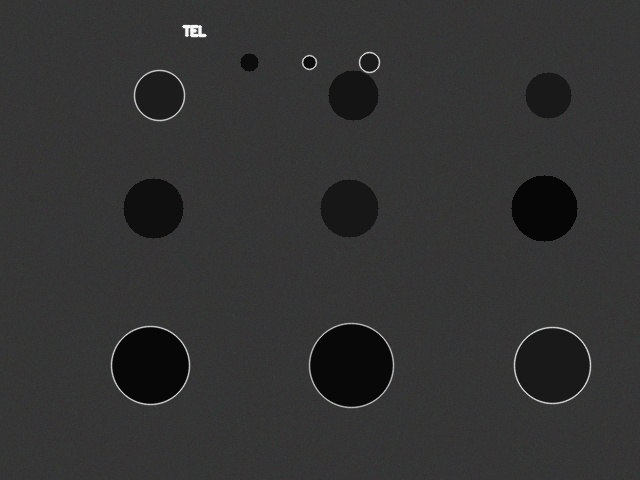hole: (309, 323, 393, 407), (111, 326, 189, 404), (514, 327, 590, 403), (511, 175, 577, 241), (123, 178, 183, 238), (320, 179, 378, 237), (134, 70, 184, 120), (328, 70, 378, 120), (525, 72, 571, 118), (359, 52, 379, 72), (240, 53, 258, 71), (302, 55, 316, 69)
